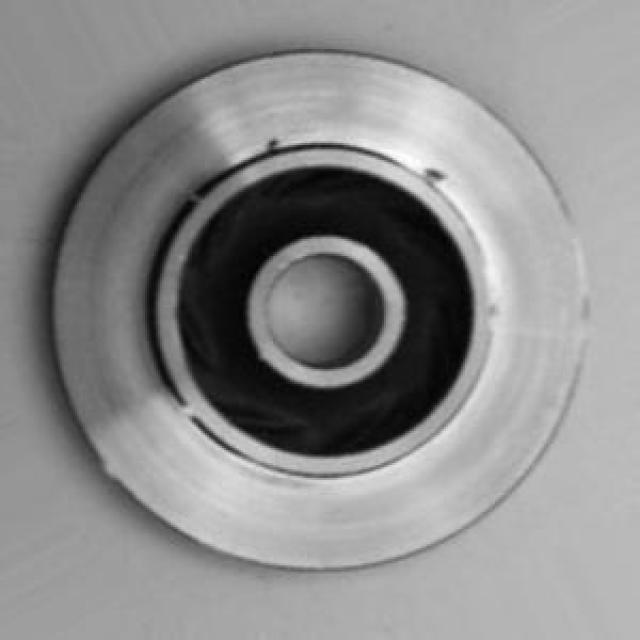Defect: (250, 126, 286, 155)
